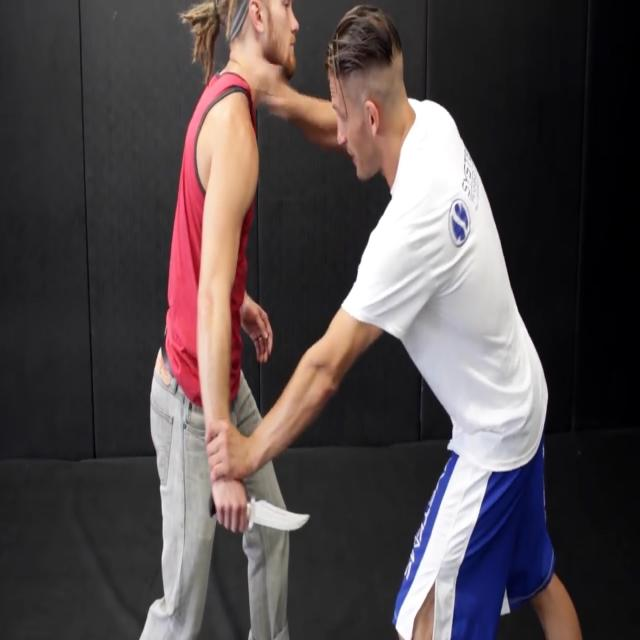knife: (246, 496, 312, 534)
